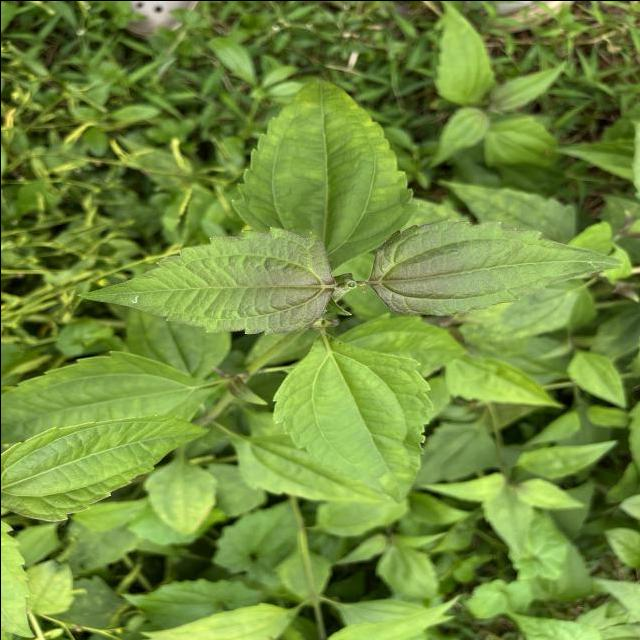Chromolaena odorata: (72, 222, 338, 336), (366, 215, 628, 318)
